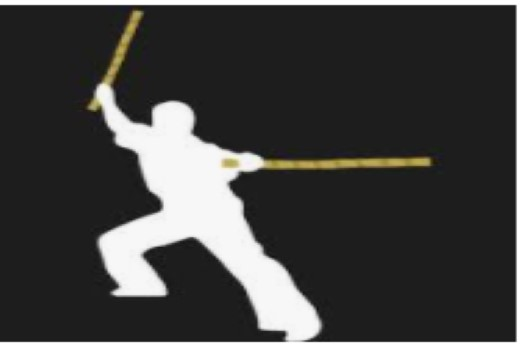baston_e: (92, 21, 139, 109), (247, 154, 423, 173)
baston_v: (85, 97, 109, 119), (126, 4, 148, 26), (420, 150, 439, 174), (218, 156, 238, 173)
